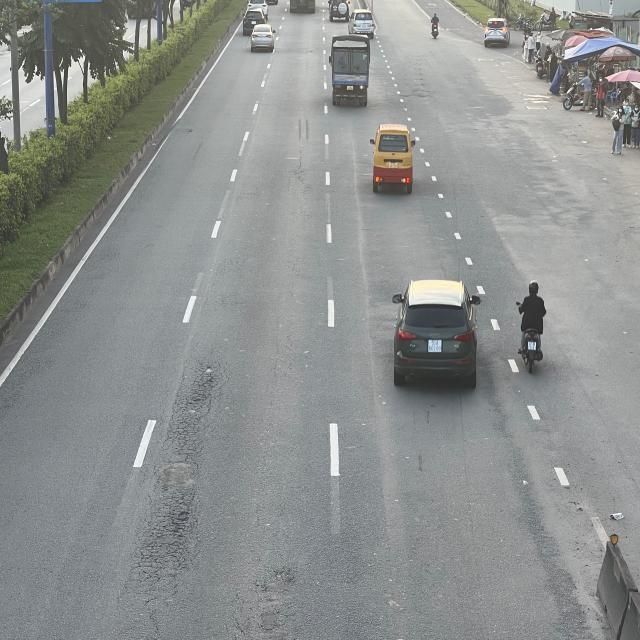car: (392, 282, 482, 391), (482, 18, 512, 48), (350, 8, 376, 36), (250, 24, 276, 51), (330, 0, 351, 21)
truck: (329, 36, 370, 106)
van: (372, 124, 420, 192)
